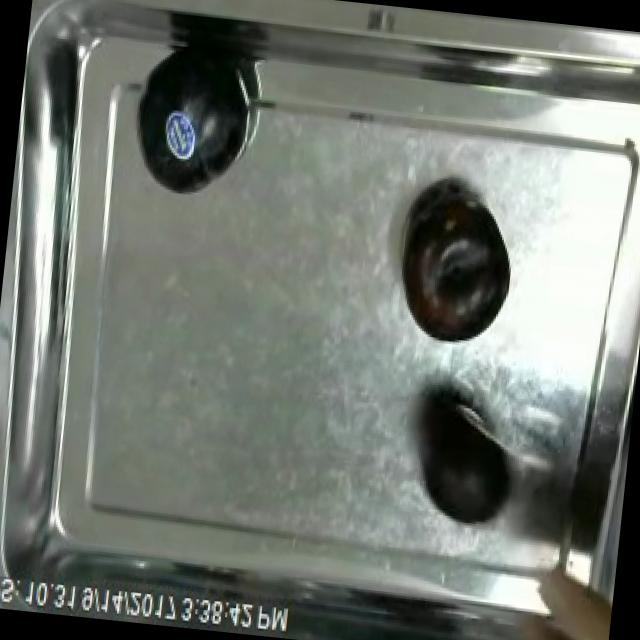Fruit: (124, 34, 264, 210), (386, 186, 520, 356), (394, 382, 530, 540)
